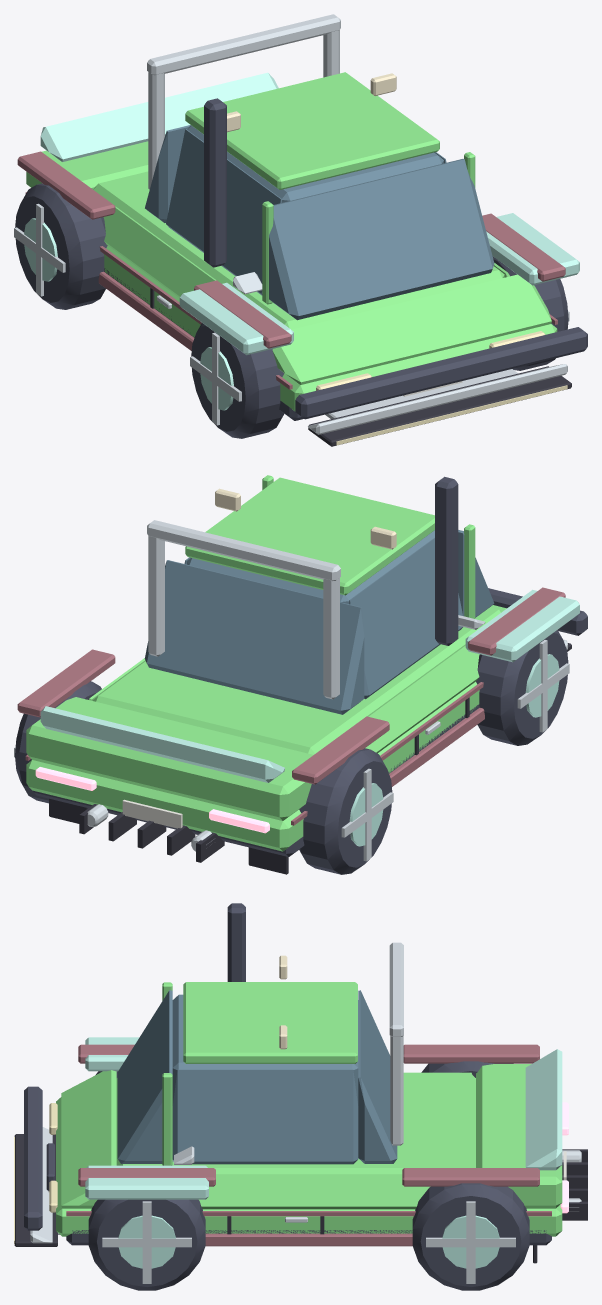
The model's file is sandbar_scout.fbx.
The picture shows the model from 3 angles, top to bottom: view 1: azimuth 30°, elevation 25°; view 2: azimuth 150°, elevation 25°; view 3: azimuth 270°, elevation 25°; orthographic projection. The views are drawn at different scales.
Visible parts, largest first — view 1: Body, Glass, Trim2, Accent3, Accent2, Accent, Wheel_RR, Wheel_FR, Metal, Trim, Metal2, Light (+2 smaller); view 2: Body, Glass, Accent, Accent3, Accent2, Wheel_RR, Trim2, Wheel_FR, Trim, Metal, Metal2, Light2 (+3 smaller); view 3: Body, Glass, Accent, Accent3, Wheel_RL, Wheel_FL, Trim2, Accent2, Metal, Metal2, Trim, Wheel_RR (+1 smaller).
Part boxes in pixels (x1=…): Body: x1=26, y1=72, x2=557, y2=411; Glass: x1=145, y1=125, x2=494, y2=320; Trim2: x1=104, y1=98, x2=587, y2=420; Accent3: x1=40, y1=72, x2=579, y2=355; Accent2: x1=147, y1=14, x2=567, y2=434; Accent: x1=17, y1=151, x2=565, y2=389; Wheel_RR: x1=15, y1=183, x2=107, y2=309; Wheel_FR: x1=191, y1=323, x2=284, y2=438; Metal: x1=14, y1=203, x2=569, y2=425; Trim: x1=150, y1=288, x2=571, y2=446; Metal2: x1=24, y1=218, x2=233, y2=410; Light: x1=316, y1=331, x2=567, y2=445; Body: x1=26, y1=475, x2=506, y2=851; Glass: x1=144, y1=530, x2=494, y2=714; Accent: x1=17, y1=587, x2=565, y2=825; Accent3: x1=40, y1=589, x2=579, y2=782; Accent2: x1=147, y1=520, x2=567, y2=699; Wheel_RR: x1=299, y1=748, x2=392, y2=874; Trim2: x1=33, y1=476, x2=587, y2=856; Wheel_FR: x1=476, y1=630, x2=568, y2=745; Trim: x1=49, y1=643, x2=571, y2=874; Metal: x1=14, y1=640, x2=569, y2=861; Metal2: x1=349, y1=654, x2=559, y2=846; Light2: x1=35, y1=767, x2=269, y2=833; Body: x1=56, y1=982, x2=562, y2=1236; Glass: x1=117, y1=990, x2=397, y2=1164; Accent: x1=66, y1=1044, x2=551, y2=1246; Accent3: x1=85, y1=1037, x2=562, y2=1199; Wheel_RL: x1=412, y1=1183, x2=529, y2=1290; Wheel_FL: x1=88, y1=1199, x2=205, y2=1290; Trim2: x1=24, y1=903, x2=551, y2=1245; Accent2: x1=30, y1=942, x2=403, y2=1243; Metal: x1=58, y1=1150, x2=581, y2=1283; Metal2: x1=118, y1=1215, x2=499, y2=1268; Trim: x1=14, y1=1134, x2=587, y2=1263; Wheel_RR: x1=421, y1=1061, x2=513, y2=1077.
Size of the model in its own units: 3.46 by 2.83 by 5.56.
